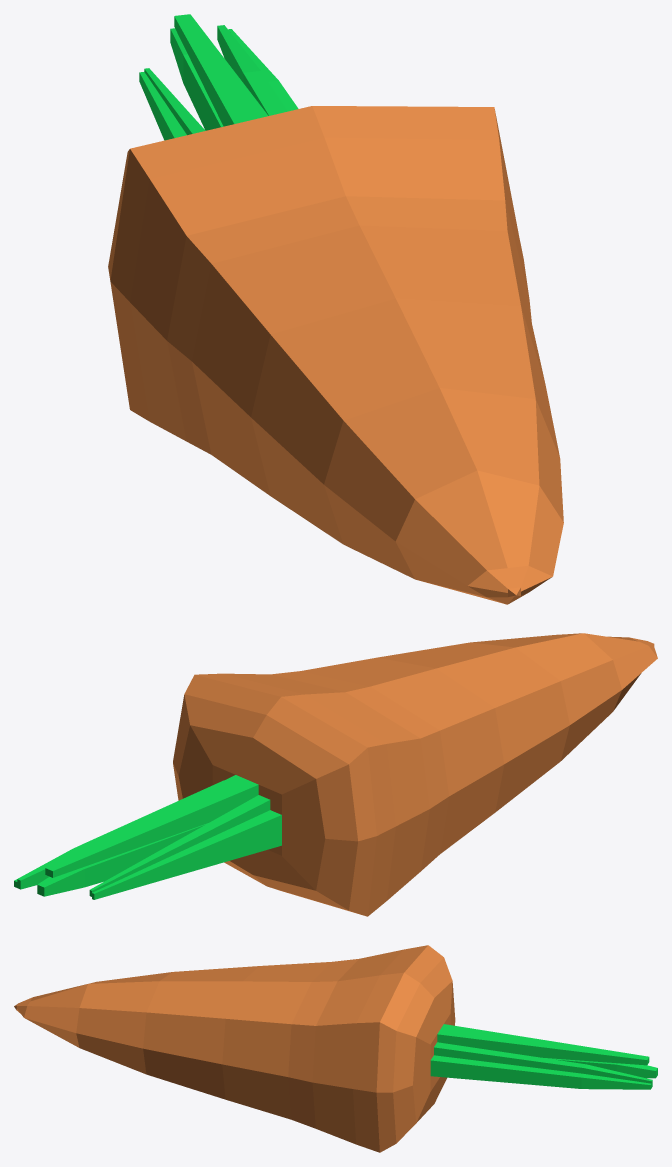
File: carrot.fbx
3 views of the same model, one above another, from view 1: azimuth 30°, elevation 25°; view 2: azimuth 150°, elevation 25°; view 3: azimuth 270°, elevation 25° (orthographic). The views are drawn at different scales.
Parts seen in each view (by area): view 1: Carrot; view 2: Carrot; view 3: Carrot.
Boxes of the visible parts, left/top/right/bottom form: Carrot: left=108, top=14, right=563, bottom=604; Carrot: left=14, top=633, right=657, bottom=916; Carrot: left=14, top=945, right=657, bottom=1152.
Size of the model in its own units: 103 by 73.78 by 287.
